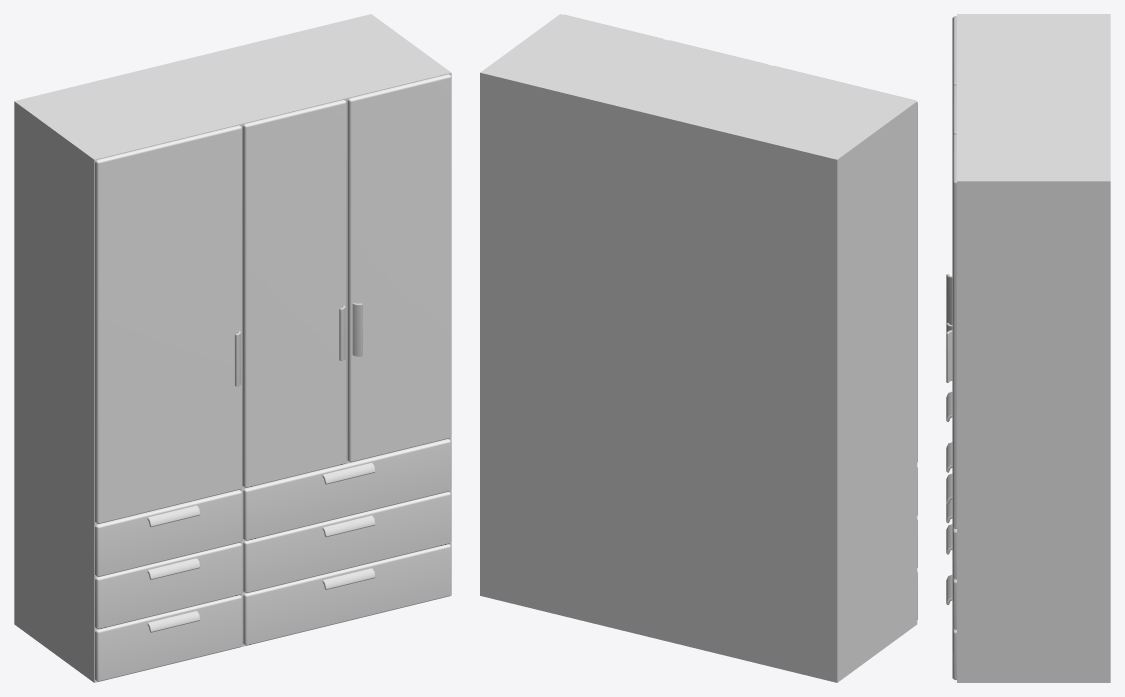
The model's file is cupboard_008.fbx.
3 renders of one model, left to right at view 1: azimuth 30°, elevation 25°; view 2: azimuth 150°, elevation 25°; view 3: azimuth 270°, elevation 25°, orthographic. The views are drawn at different scales.
Parts seen in each view (by area): view 1: cupboard_008; view 2: cupboard_008; view 3: cupboard_008.
Part boxes in pixels (x1=…): cupboard_008: x1=14, y1=14, x2=451, y2=682; cupboard_008: x1=480, y1=14, x2=917, y2=682; cupboard_008: x1=946, y1=14, x2=1110, y2=682.
Size of the model in its own units: 194 by 80.88 by 272.
